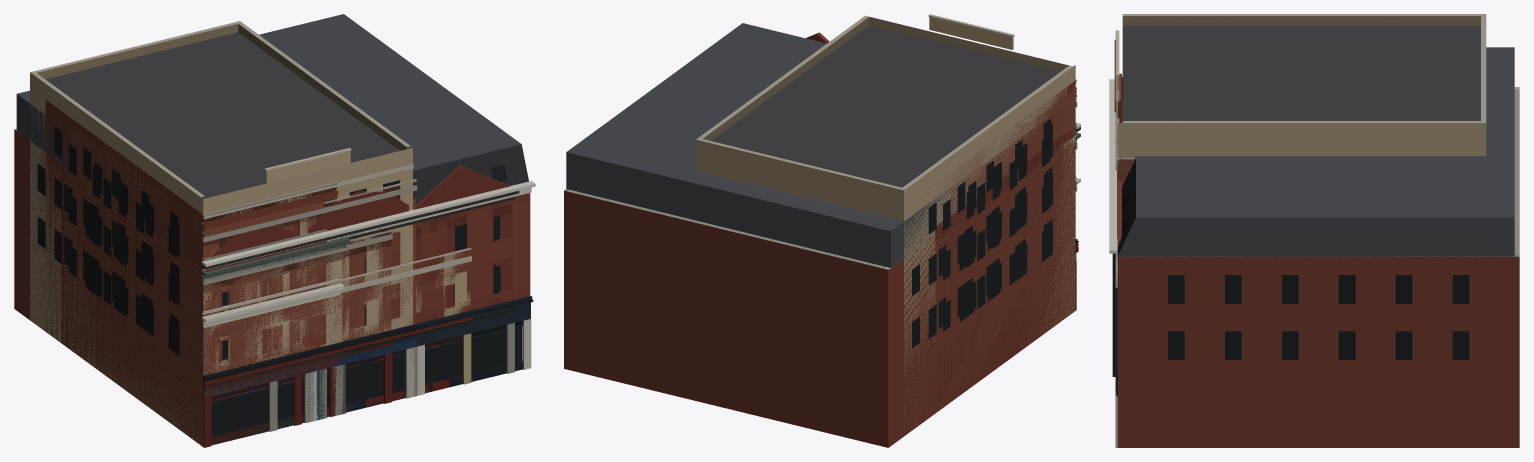
File: mainst_far.glb
The picture shows the model from 3 angles, left to right: view 1: azimuth 30°, elevation 25°; view 2: azimuth 150°, elevation 25°; view 3: azimuth 270°, elevation 25°; orthographic projection. The views are drawn at different scales.
Parts seen in each view (by area): view 1: lukewarm_2, monotony_2, barrel_2, hemming_2, secondguess_2, chaperone_2, overdue_2, smallchange_2, gridbear_2, bleached_2, jack_2, pressed_2; view 2: monotony_2, lukewarm_2, gridbear_2, secondguess_2, pressed_2, overdue_2, barrel_2, hemming_2, chaperone_2, bleached_2, jack_2; view 3: monotony_2, lukewarm_2, overdue_2, secondguess_2.
Boxes of the visible parts, x1,y1,x2,y2 form: lukewarm_2: [30, 21, 416, 445]; monotony_2: [14, 14, 535, 441]; barrel_2: [69, 178, 394, 447]; hemming_2: [45, 99, 339, 444]; secondguess_2: [61, 165, 519, 439]; chaperone_2: [69, 125, 324, 446]; overdue_2: [77, 140, 418, 438]; smallchange_2: [30, 187, 473, 441]; gridbear_2: [61, 170, 350, 445]; bleached_2: [69, 183, 344, 445]; jack_2: [77, 220, 344, 444]; pressed_2: [61, 157, 328, 434]; monotony_2: [564, 23, 1080, 447]; lukewarm_2: [696, 14, 1078, 428]; gridbear_2: [935, 133, 1080, 413]; secondguess_2: [806, 32, 1080, 411]; pressed_2: [935, 123, 1078, 412]; overdue_2: [951, 97, 1077, 376]; barrel_2: [966, 141, 1078, 334]; hemming_2: [920, 79, 1078, 336]; chaperone_2: [943, 88, 1076, 326]; bleached_2: [1042, 135, 1077, 329]; jack_2: [951, 176, 1080, 395]; monotony_2: [1109, 47, 1519, 447]; lukewarm_2: [1112, 14, 1486, 311]; overdue_2: [1115, 115, 1135, 187]; secondguess_2: [1115, 73, 1121, 391].
Size of the model in its own units: 24.2 by 18.42 by 24.5.
